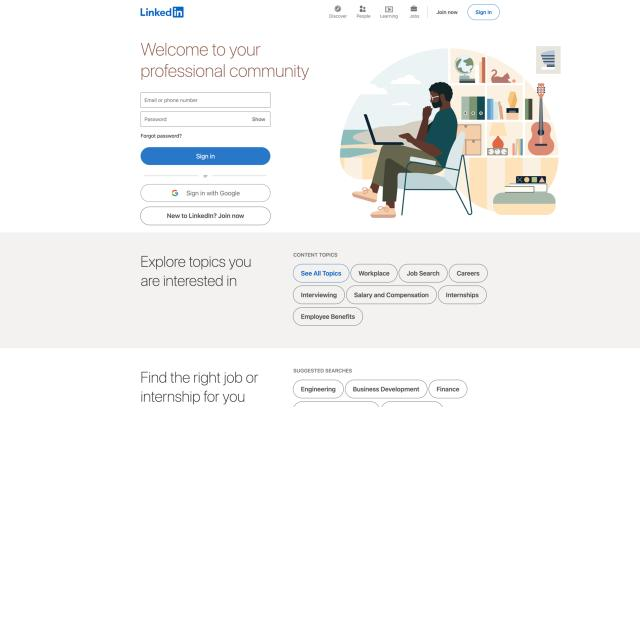input: (140, 110, 272, 128), (140, 92, 272, 108)
logo: (137, 3, 191, 21)
navigation: (326, 2, 424, 21)
